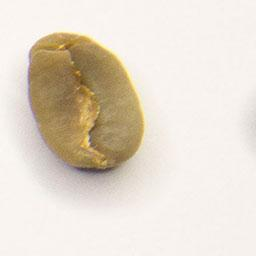premium: (25, 28, 148, 175)
